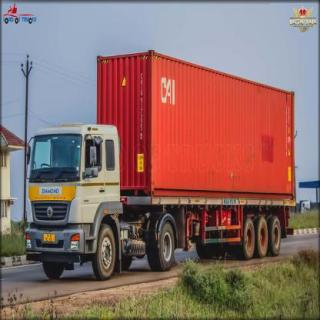Normal_vehicle: (23, 44, 297, 284)
